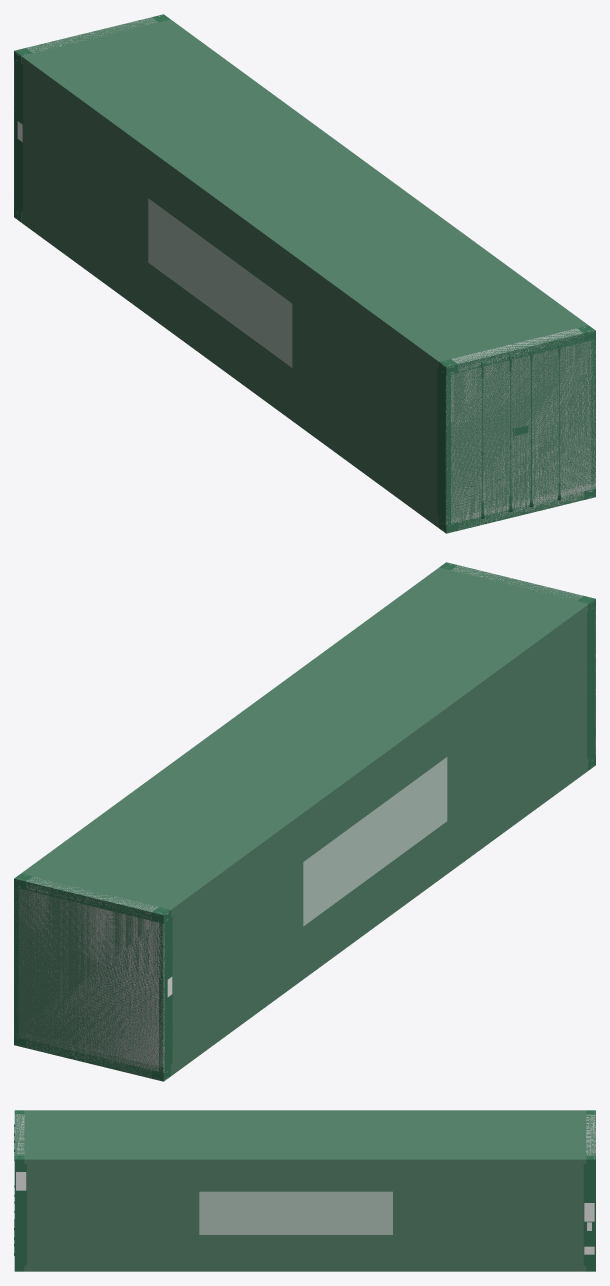
Rendered from s_containers_40_okudai.dae.
3 renders of one model, top to bottom at view 1: azimuth 30°, elevation 25°; view 2: azimuth 150°, elevation 25°; view 3: azimuth 270°, elevation 25°, orthographic. The views are drawn at different scales.
Visible parts, largest first — view 1: s_containers_40_okudai_a40, Colmesh_s_containers_40_okudai-1, s_containers_40_okudai_a1500, s_containers_40_okudai_a150, s_containers_40_okudai_a600; view 2: s_containers_40_okudai_a40, Colmesh_s_containers_40_okudai-1, s_containers_40_okudai_a150, s_containers_40_okudai_a1500, s_containers_40_okudai_a600; view 3: s_containers_40_okudai_a40, s_containers_40_okudai_a1500, Colmesh_s_containers_40_okudai-1, s_containers_40_okudai_a600, s_containers_40_okudai_a150.
Boxes of the visible parts, x1,y1,x2,y2 form: s_containers_40_okudai_a40: (14,15,595,532); Colmesh_s_containers_40_okudai-1: (14,16,595,531); s_containers_40_okudai_a1500: (14,14,595,533); s_containers_40_okudai_a150: (446,331,595,533); s_containers_40_okudai_a600: (14,16,595,532); s_containers_40_okudai_a40: (14,563,595,1080); Colmesh_s_containers_40_okudai-1: (16,564,595,1080); s_containers_40_okudai_a150: (14,879,163,1081); s_containers_40_okudai_a1500: (14,562,595,1081); s_containers_40_okudai_a600: (14,564,595,1080); s_containers_40_okudai_a40: (14,1110,595,1271); s_containers_40_okudai_a1500: (14,1110,595,1271); Colmesh_s_containers_40_okudai-1: (15,1114,595,1158); s_containers_40_okudai_a600: (14,1111,595,1271); s_containers_40_okudai_a150: (14,1159,595,1271).
Bounding box in the file's own units: 2.52 × 12.21 × 2.59.
